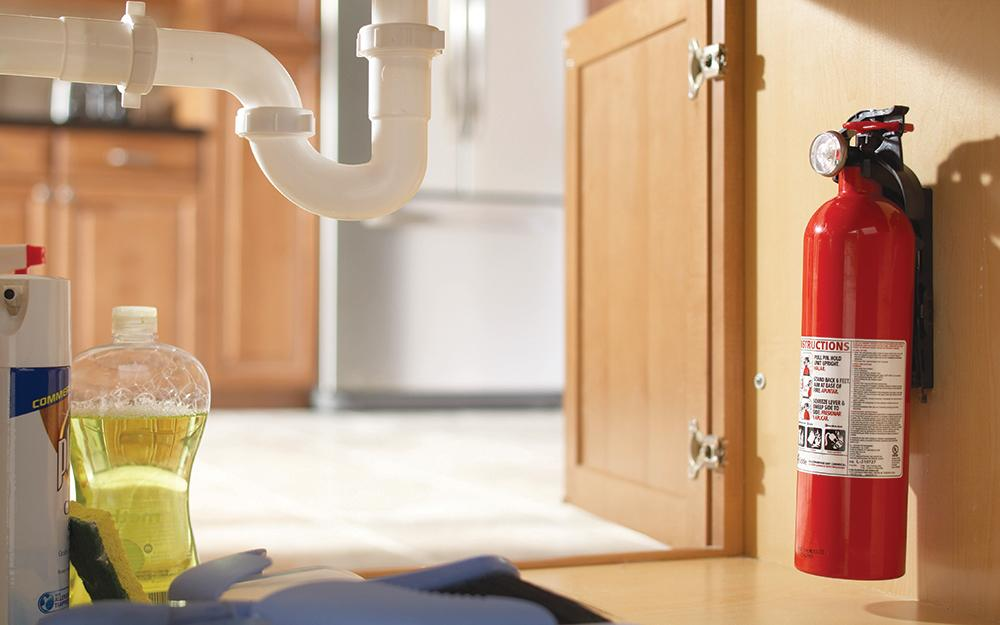Fire Extinguisher: (785, 100, 957, 598)
